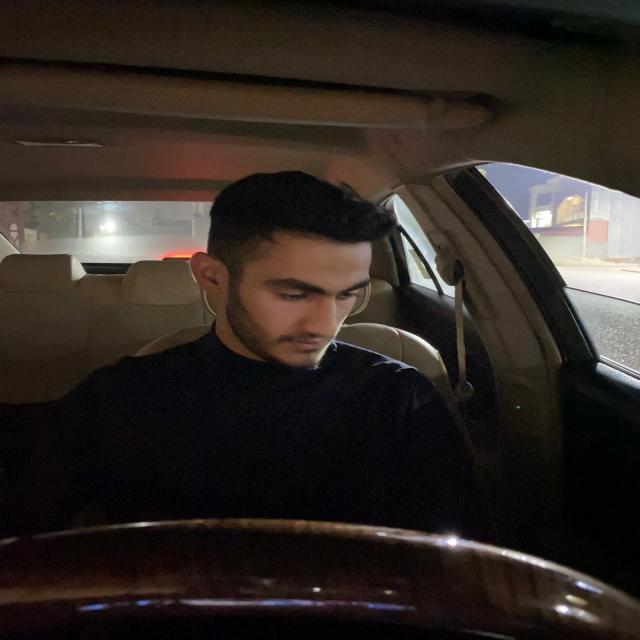drowsy: (199, 175, 378, 374)
